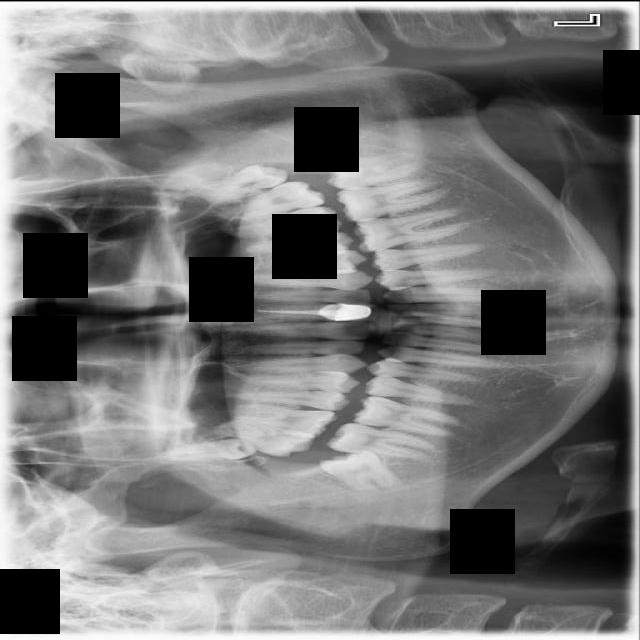3M ESPE Implant: (158, 436, 259, 461)
52: (317, 302, 379, 321)
73: (253, 303, 325, 320), (554, 22, 562, 30)
BioHorizons Implant: (208, 173, 327, 227)
BioLife Implant: (192, 153, 292, 209)
Biomet 3i Implant: (324, 148, 422, 192)
Blue Sky Bio Implant: (334, 176, 450, 223)
Caries: (203, 412, 317, 463)
Implant: (326, 419, 437, 462)
Keystone Dental Implant: (318, 441, 399, 501)
